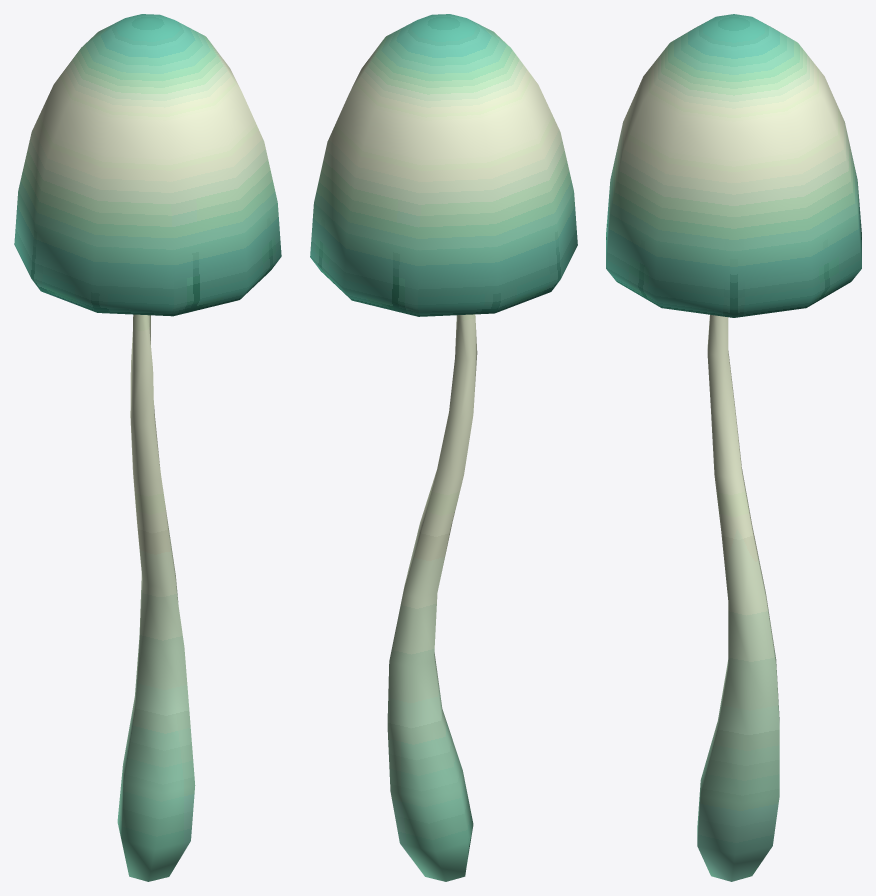
The model's file is int_msh_lampA.dae.
3 renders of one model, left to right at view 1: azimuth 30°, elevation 25°; view 2: azimuth 150°, elevation 25°; view 3: azimuth 270°, elevation 25°, orthographic.
Visible parts, largest first — view 1: int_msh_lampA; view 2: int_msh_lampA; view 3: int_msh_lampA.
Part boxes in pixels (x1,y1,x2,y2): int_msh_lampA: (14, 14, 281, 881); int_msh_lampA: (310, 14, 577, 881); int_msh_lampA: (606, 14, 861, 881).
Size of the model in its own units: 15.77 by 55.73 by 15.02.
2 materials, 2 textured.
